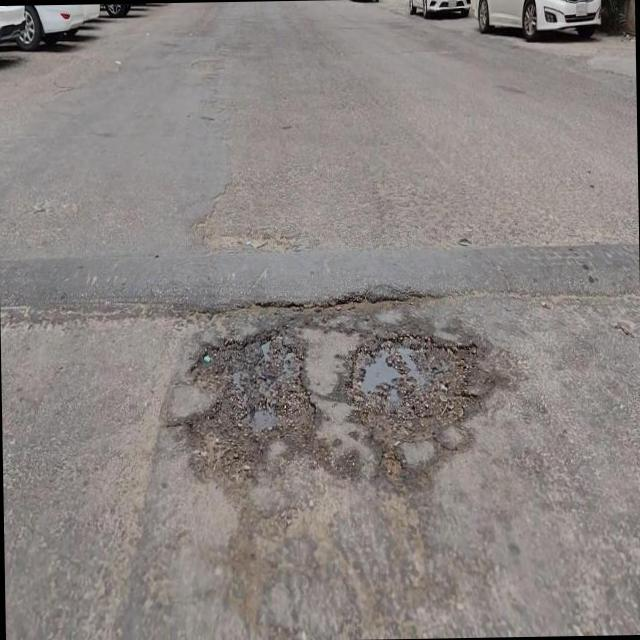Pothole: (187, 324, 314, 466), (347, 332, 467, 444)
